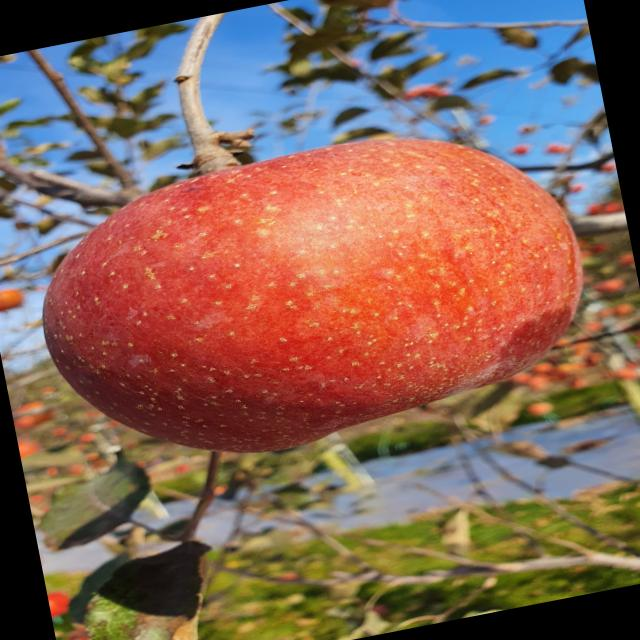fresh: (10, 96, 628, 501)
